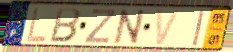B: (47, 7, 82, 44)
I: (191, 9, 206, 48)
L: (25, 6, 48, 44)
N: (113, 8, 147, 46)
V: (155, 8, 182, 46)
Z: (83, 8, 118, 45)
